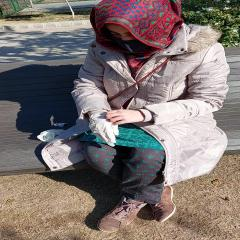gloved: (89, 111, 119, 146)
not-gloved: (107, 109, 145, 126)
